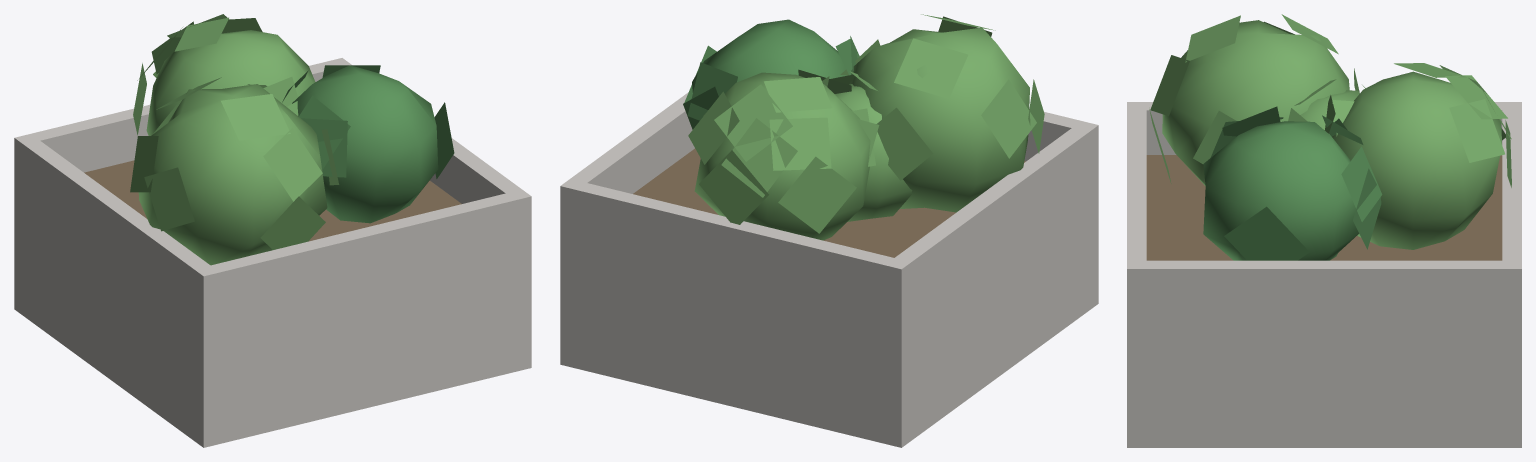
File: planter_shrubs.glb
The picture shows the model from 3 angles, left to right: view 1: azimuth 30°, elevation 25°; view 2: azimuth 150°, elevation 25°; view 3: azimuth 270°, elevation 25°; orthographic projection. The views are drawn at different scales.
Visible parts, largest first — view 1: planter_shrubs; view 2: planter_shrubs; view 3: planter_shrubs.
Boxes of the visible parts, bbox=[...] form: planter_shrubs: bbox=[14, 14, 531, 447]; planter_shrubs: bbox=[560, 14, 1098, 447]; planter_shrubs: bbox=[1127, 14, 1521, 447].
Bounding box in the file's own units: 1.2 × 1.01 × 1.2.
